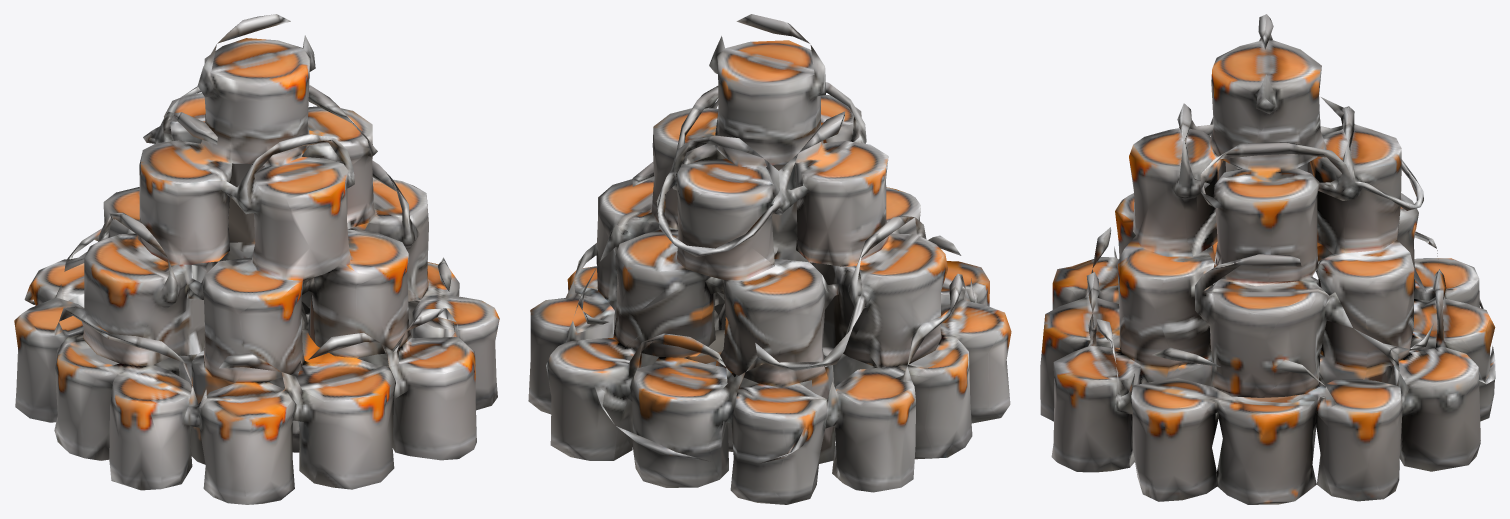
File: PaintcanPile.glb
3 renders of one model, left to right at view 1: azimuth 30°, elevation 25°; view 2: azimuth 150°, elevation 25°; view 3: azimuth 270°, elevation 25°, orthographic.
Visible parts, largest first — view 1: input; view 2: input; view 3: input.
Boxes of the visible parts, box(x1,y1,x2,y2) form: input: box(14, 14, 499, 504); input: box(528, 14, 1011, 504); input: box(1040, 14, 1495, 504).
Bounding box in the file's own units: 0.9877 × 0.9305 × 0.9831.
Materials: 1 (1 with a texture image).
